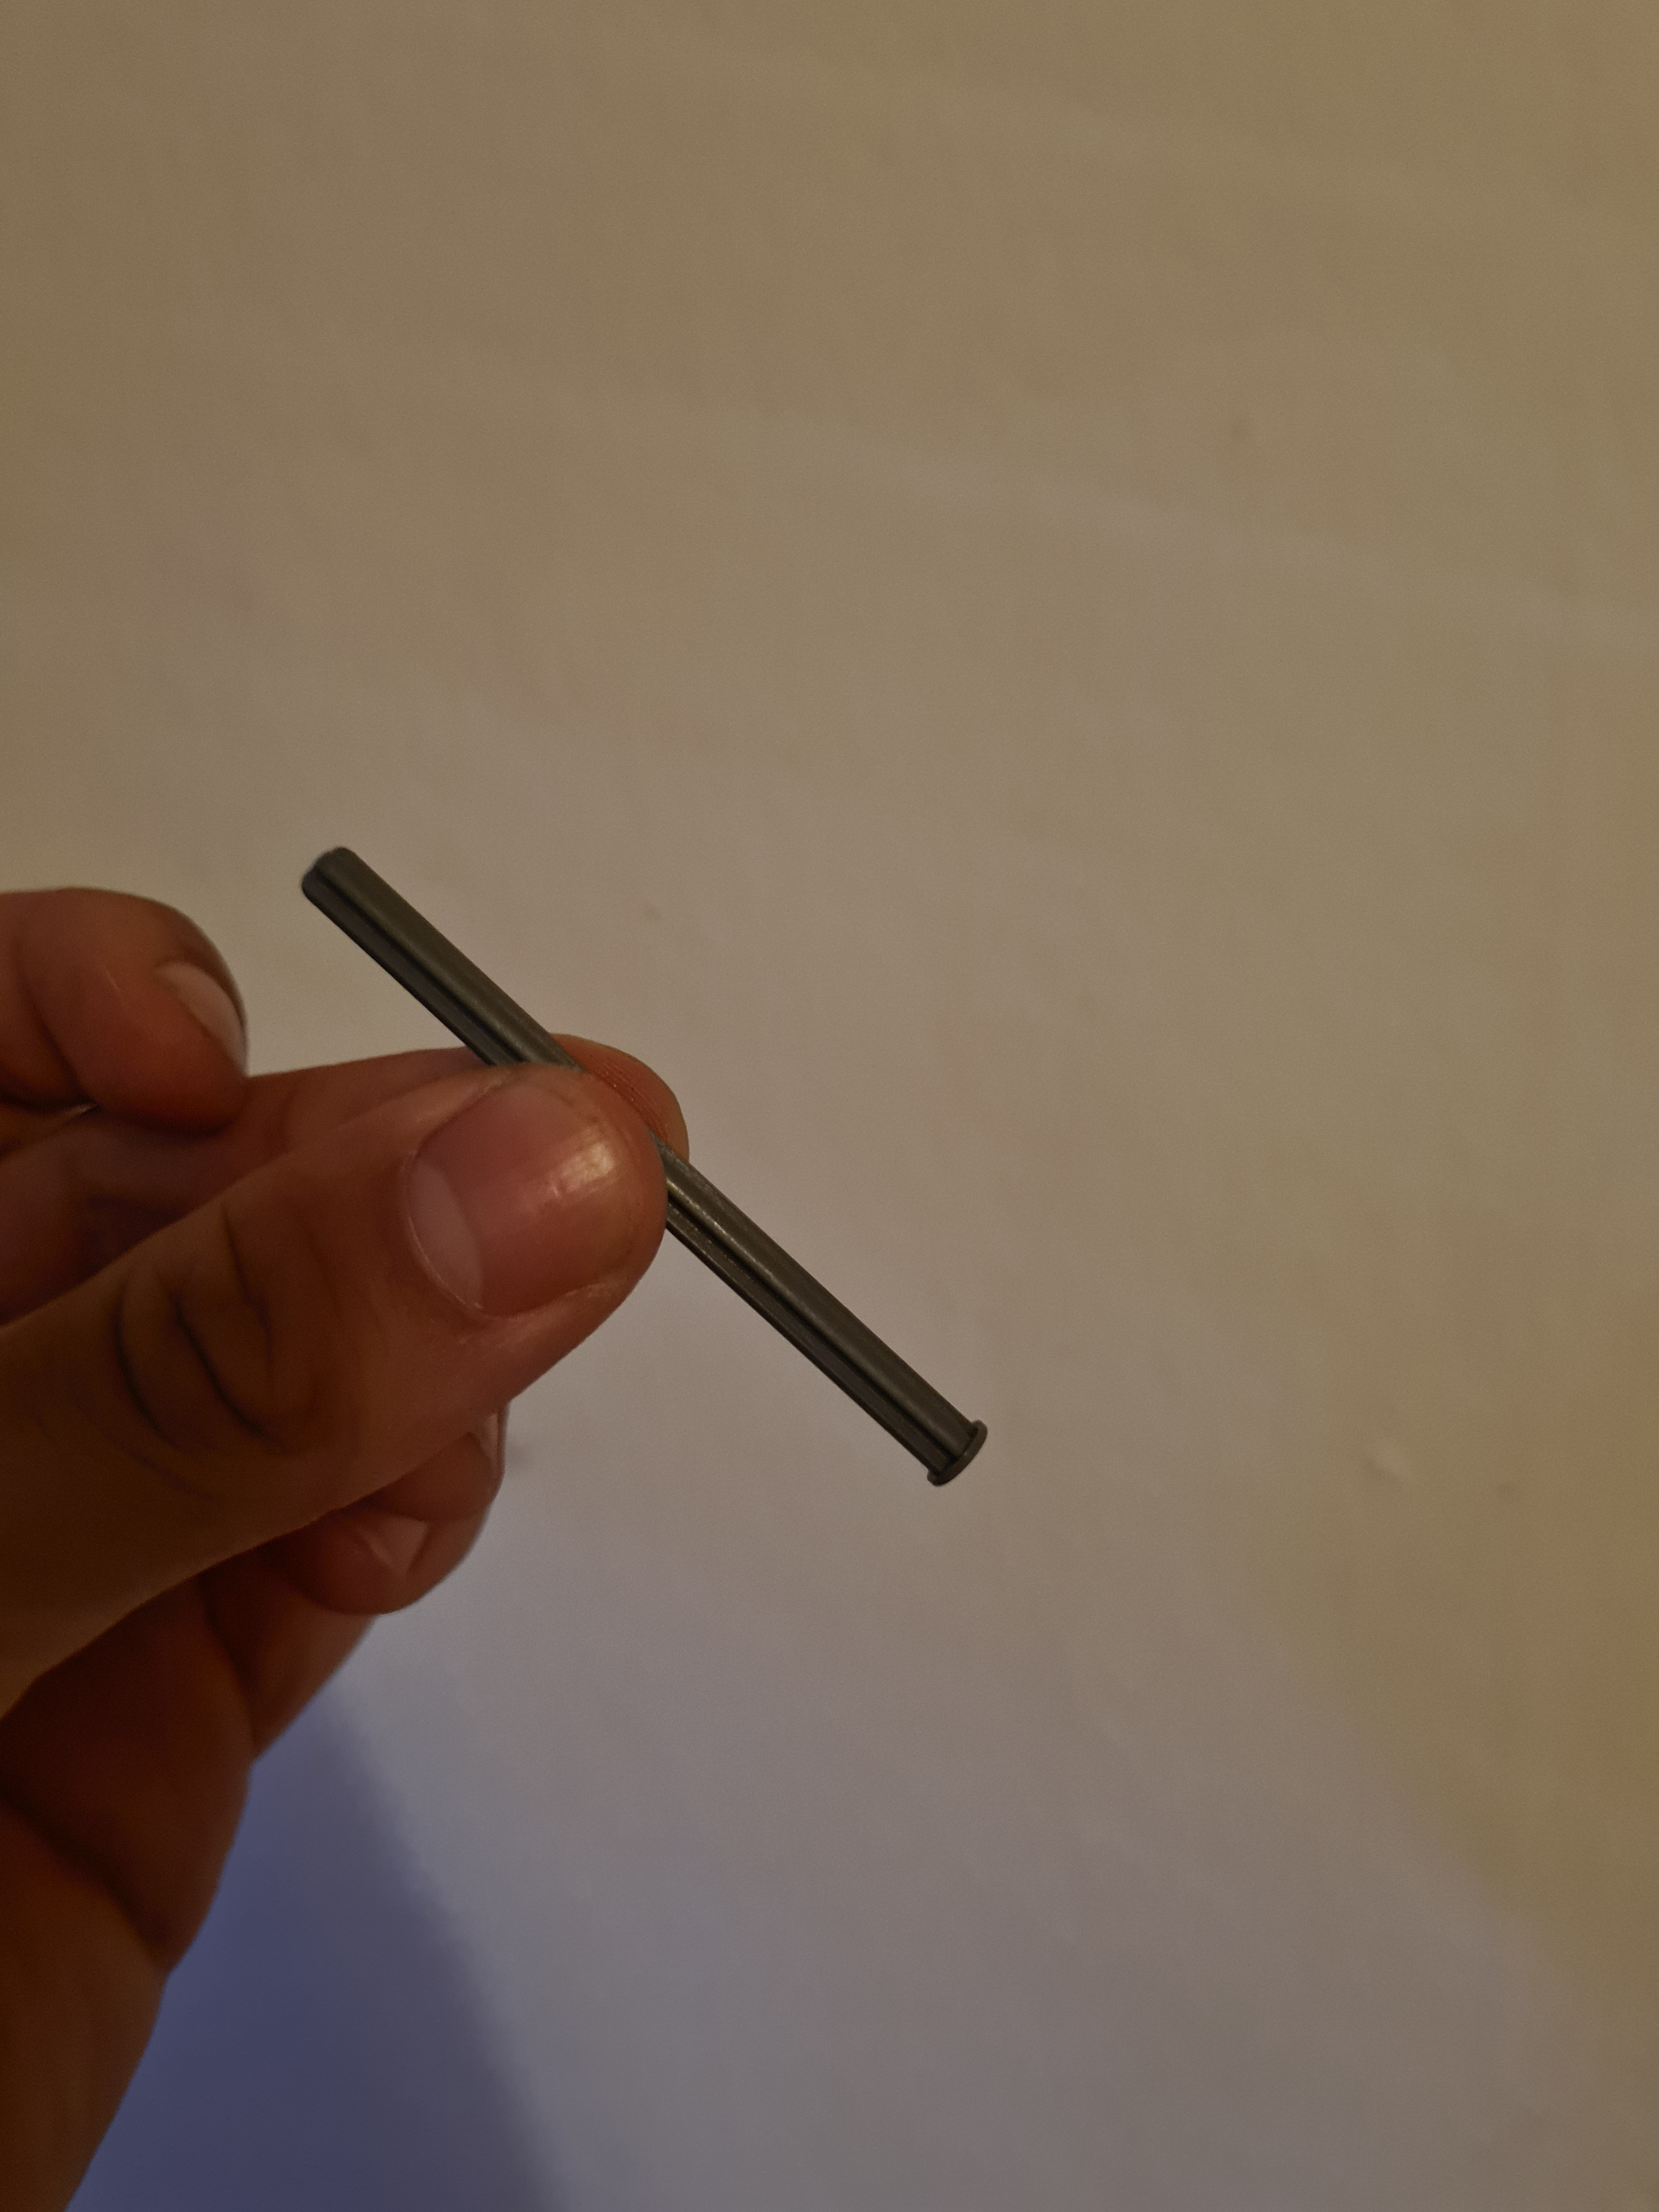Grau_lang: (291, 838, 993, 1487)
